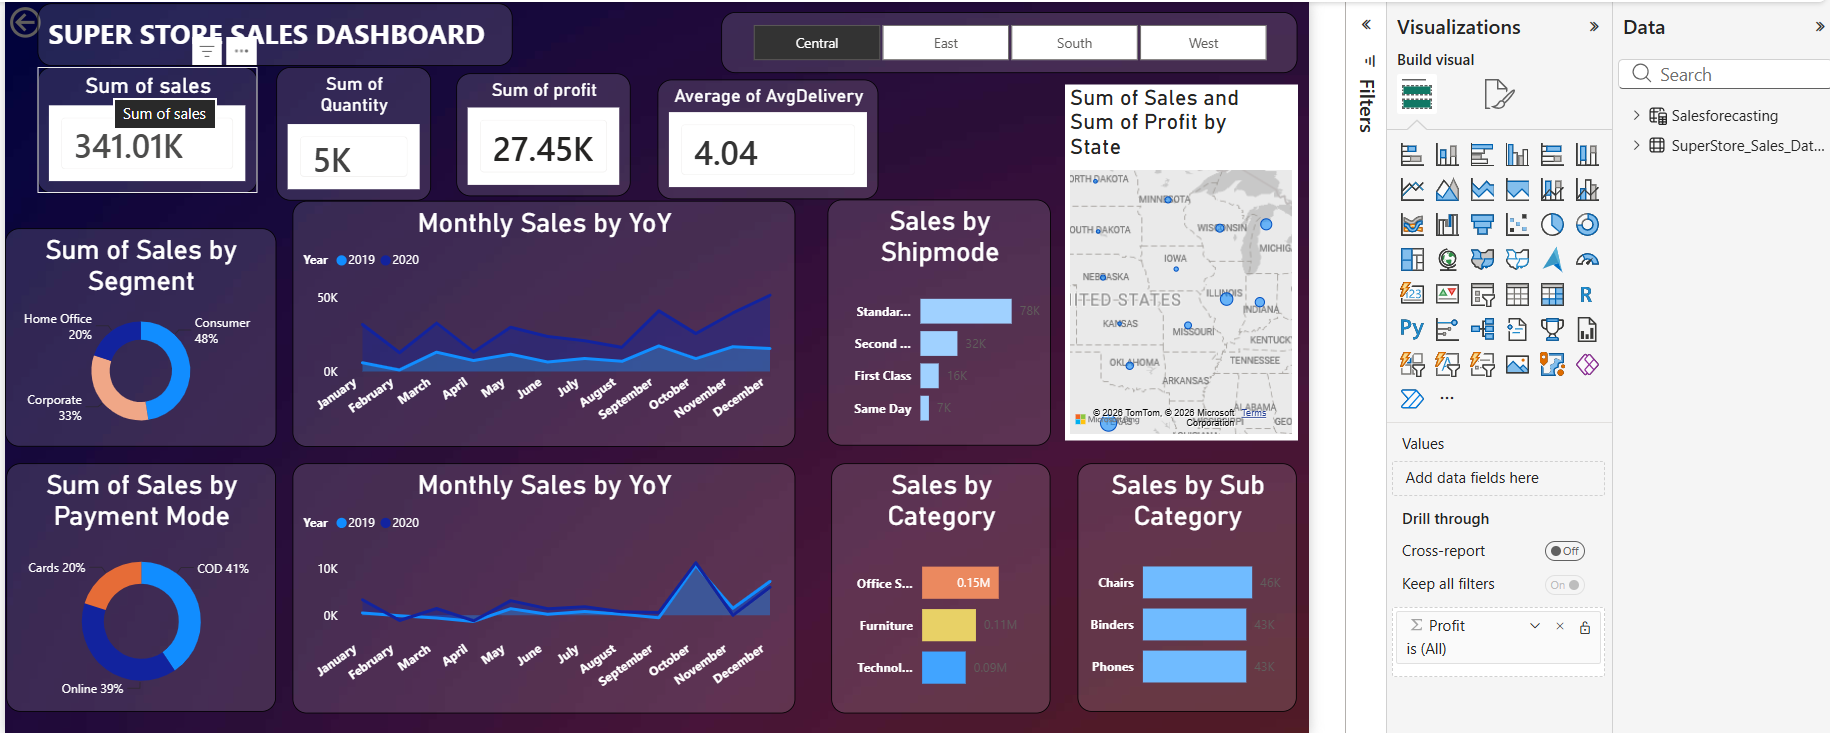

The page's visual inventory and layout, read from the dashboard file:
{"tool":"powerbi","page":{"name":"Page 1","canvas":[1280,720],"ordinal":0},"visuals":[{"type":"clusteredBarChart","title":"Sales by Category","fields":{"Category":["SuperStore_Sales_Dataset.Category"],"Y":["Sum(SuperStore_Sales_Dataset.Sales)"]},"box":[811,452.8,215.4,245.6],"z":0},{"type":"clusteredBarChart","title":"Sales by Sub Category","fields":{"Category":["SuperStore_Sales_Dataset.Sub-Category"],"Y":["Sum(SuperStore_Sales_Dataset.Sales)"]},"box":[1052.5,452.8,215.4,244.3],"z":1000},{"type":"clusteredBarChart","title":"Sales by Shipmode","fields":{"Category":["SuperStore_Sales_Dataset.Ship Mode"],"Y":["Sum(SuperStore_Sales_Dataset.Sales)"]},"box":[806.9,193.5,219.6,241.5],"z":2000},{"type":"stackedAreaChart","title":"Monthly Sales by YoY","fields":{"Y":["Sum(SuperStore_Sales_Dataset.Sales)"],"Category":["SuperStore_Sales_Dataset.Order Date.Variation.Date Hierarchy.Month"],"Series":["SuperStore_Sales_Dataset.Order Date.Variation.Date Hierarchy.Year"]},"box":[282.7,194.9,494,241.5],"z":3000},{"type":"stackedAreaChart","title":"Monthly Sales by YoY","fields":{"Category":["SuperStore_Sales_Dataset.Order Date.Variation.Date Hierarchy.Month"],"Series":["SuperStore_Sales_Dataset.Order Date.Variation.Date Hierarchy.Year"],"Y":["Sum(SuperStore_Sales_Dataset.Profit)"]},"box":[282.7,452.8,494,245.6],"z":4000},{"type":"map","fields":{"Category":["SuperStore_Sales_Dataset.State"],"Size":["Sum(SuperStore_Sales_Dataset.Sales)"]},"box":[1040.1,81,227.8,348.5],"z":5000},{"type":"actionButton","box":[0,0,100,40],"z":6000},{"type":"donutChart","fields":{"Category":["SuperStore_Sales_Dataset.Segment"],"Y":["Sum(SuperStore_Sales_Dataset.Sales)"]},"box":[0,222.3,266.2,214.1],"z":7000},{"type":"donutChart","fields":{"Category":["SuperStore_Sales_Dataset.Payment Mode"],"Y":["Sum(SuperStore_Sales_Dataset.Sales)"]},"box":[1.4,452.8,264.8,244.3],"z":8000},{"type":"slicer","fields":{"Values":["SuperStore_Sales_Dataset.Region"]},"box":[702.6,9.6,565.4,60.4],"z":9000},{"type":"textbox","box":[31.6,1.4,466.6,61.7],"z":10000},{"type":"cardVisual","title":"Sum of sales","fields":{"Data":["Sum(SuperStore_Sales_Dataset.Sales)"]},"box":[31.9,63.8,216,123.9],"z":11000},{"type":"cardVisual","title":"Sum of Quantity","fields":{"Data":["Sum(SuperStore_Sales_Dataset.Quantity)"]},"box":[266.3,63.8,152.1,131.3],"z":12000},{"type":"cardVisual","title":"Sum of profit","fields":{"Data":["Sum(SuperStore_Sales_Dataset.Profit)"]},"box":[443.2,70,171.5,120.8],"z":13000},{"type":"cardVisual","title":"Average of AvgDelivery","fields":{"Data":["Avg(SuperStore_Sales_Dataset.AvgDelivery)"]},"box":[640.5,76.1,217.2,117.8],"z":14000}]}

Visuals, with their boxes on the page's 1280x720 design canvas (x1, y1, x2, y2). These are canvas units, not pixel positions in the 1830x733 screenshot, which may show the page scaled, cropped or inside an application window:
"Sales by Category" clusteredBarChart: <bbox>811, 453, 1026, 698</bbox>
"Sales by Sub Category" clusteredBarChart: <bbox>1052, 453, 1268, 697</bbox>
"Sales by Shipmode" clusteredBarChart: <bbox>807, 194, 1026, 435</bbox>
"Monthly Sales by YoY" stackedAreaChart: <bbox>283, 195, 777, 436</bbox>
"Monthly Sales by YoY" stackedAreaChart: <bbox>283, 453, 777, 698</bbox>
map - SuperStore_Sales_Dataset.State x Sum(SuperStore_Sales_Dataset.Sales): <bbox>1040, 81, 1268, 430</bbox>
actionButton: <bbox>0, 0, 100, 40</bbox>
donutChart - SuperStore_Sales_Dataset.Segment x Sum(SuperStore_Sales_Dataset.Sales): <bbox>0, 222, 266, 436</bbox>
donutChart - SuperStore_Sales_Dataset.Payment Mode x Sum(SuperStore_Sales_Dataset.Sales): <bbox>1, 453, 266, 697</bbox>
slicer - SuperStore_Sales_Dataset.Region: <bbox>703, 10, 1268, 70</bbox>
textbox: <bbox>32, 1, 498, 63</bbox>
"Sum of sales" cardVisual: <bbox>32, 64, 248, 188</bbox>
"Sum of Quantity" cardVisual: <bbox>266, 64, 418, 195</bbox>
"Sum of profit" cardVisual: <bbox>443, 70, 615, 191</bbox>
"Average of AvgDelivery" cardVisual: <bbox>640, 76, 858, 194</bbox>
